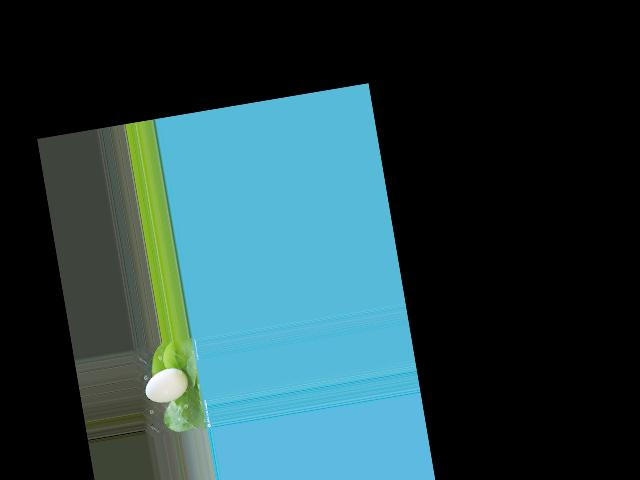egg: (142, 365, 191, 405)
